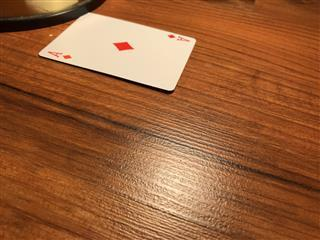AceOfDiamonds: (38, 11, 196, 91)
